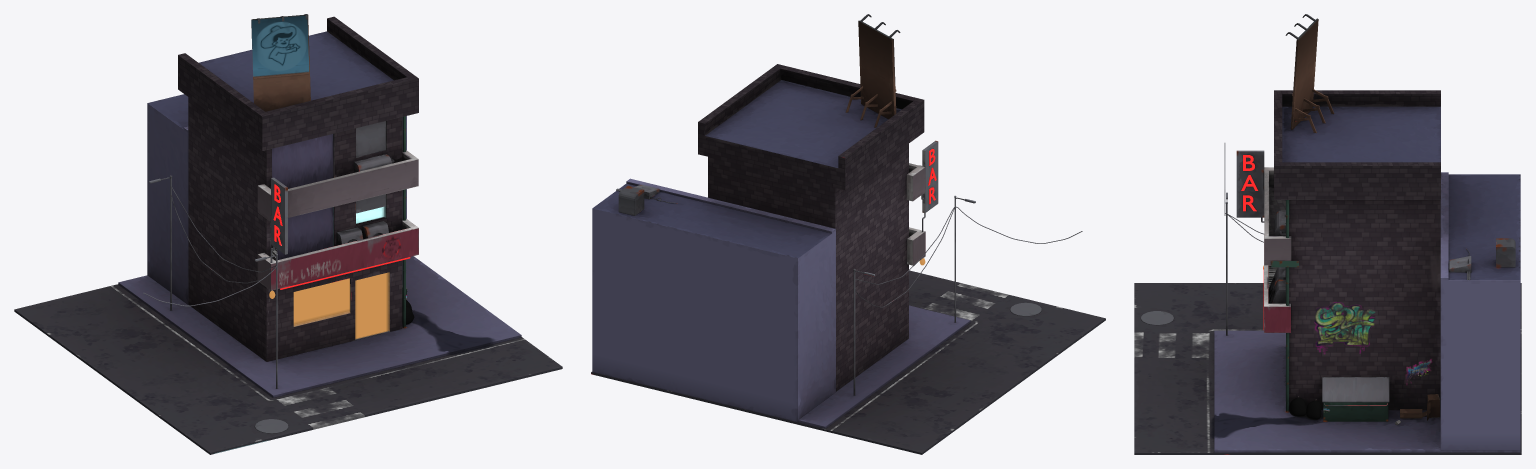
The model's file is night bar.glb.
The picture shows the model from 3 angles, left to right: view 1: azimuth 30°, elevation 25°; view 2: azimuth 150°, elevation 25°; view 3: azimuth 270°, elevation 25°; orthographic projection. The views are drawn at different scales.
Parts seen in each view (by area): view 1: Prop.001; view 2: Prop.001; view 3: Prop.001.
Boxes of the visible parts, x1,y1,x2,y2 form: Prop.001: (14, 14, 562, 454); Prop.001: (591, 14, 1105, 454); Prop.001: (1134, 14, 1521, 454).
Bounding box in the file's own units: 10.69 × 9.31 × 9.71.
Materials: 1 (1 with a texture image).
